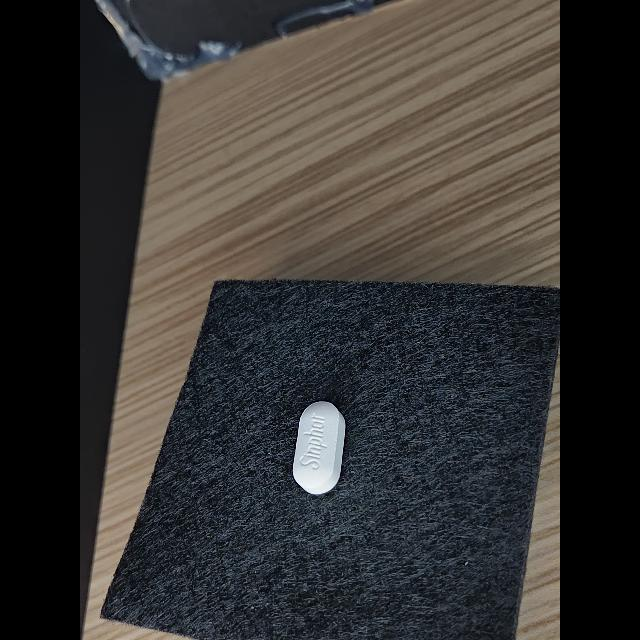Intact Pill: (293, 401, 345, 494)
